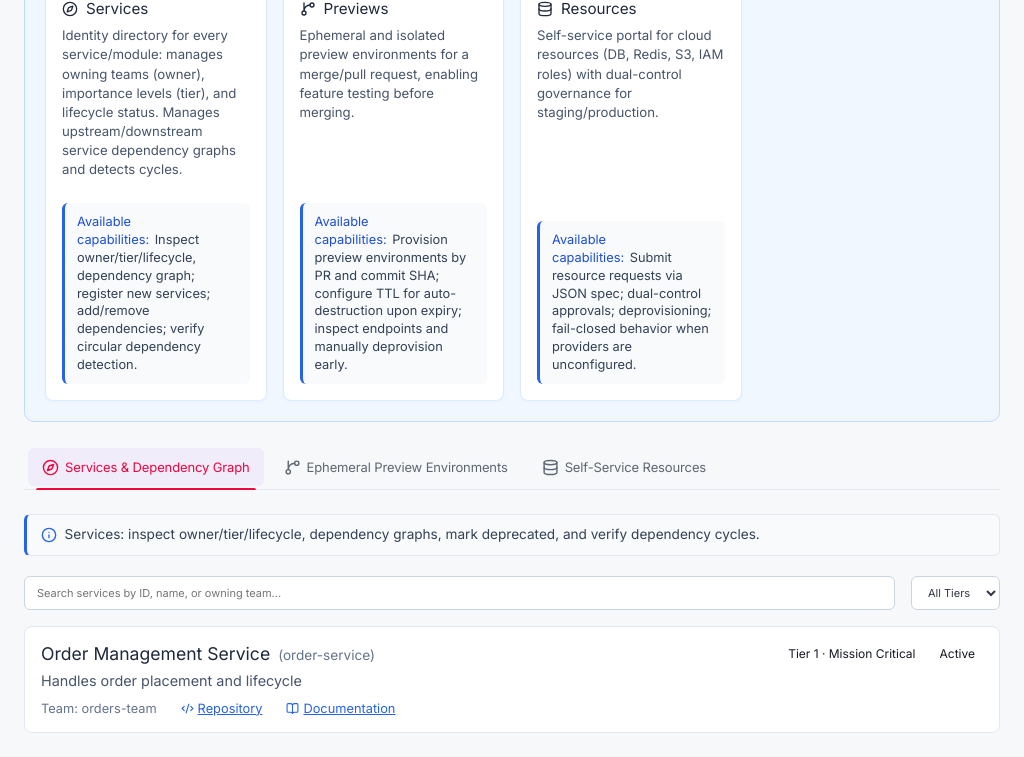
it: CatalogPage (Phase 12) › renders services list and displays dependency topology when a service is clicked
(page scrolled)
Expected: the text "(order-service)" is shown, [278, 646, 375, 662]
# Click service to inspect dependencies
Click the text "Order Management Service" at (156, 653), box [41, 642, 270, 664]
(page scrolled)
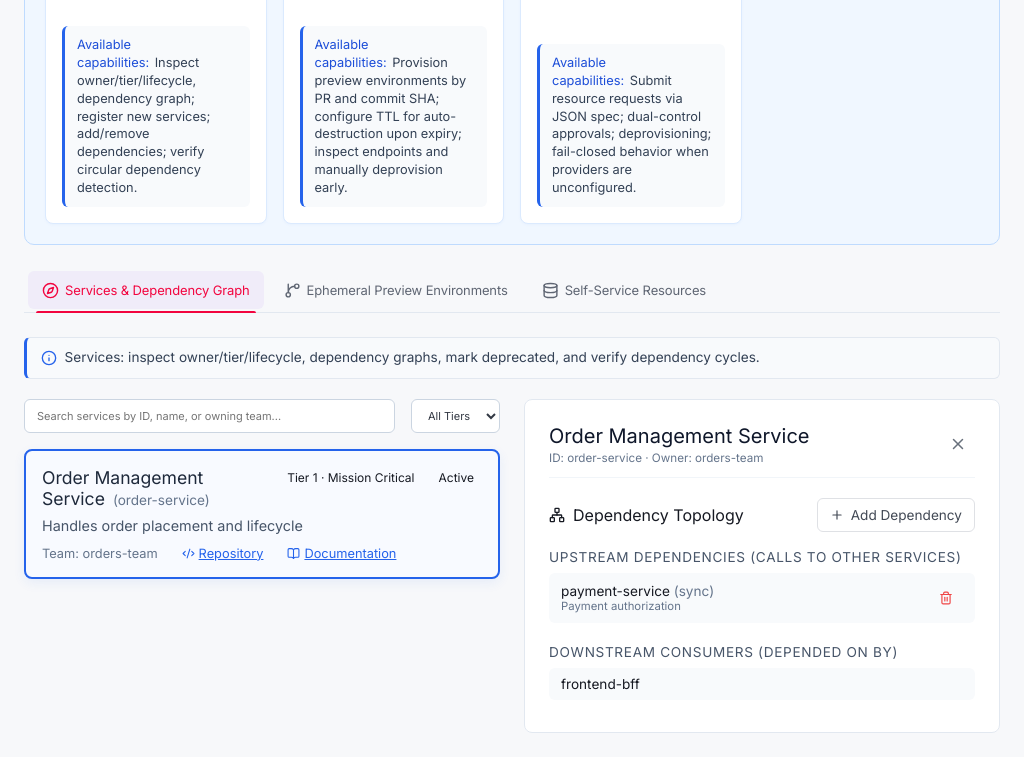
Now the heading "Dependency Topology" is shown, box [549, 504, 744, 524]
Now the text "payment-service" is shown, box [561, 582, 670, 598]
Now the text "frontend-bff" is shown, box [561, 676, 640, 692]
